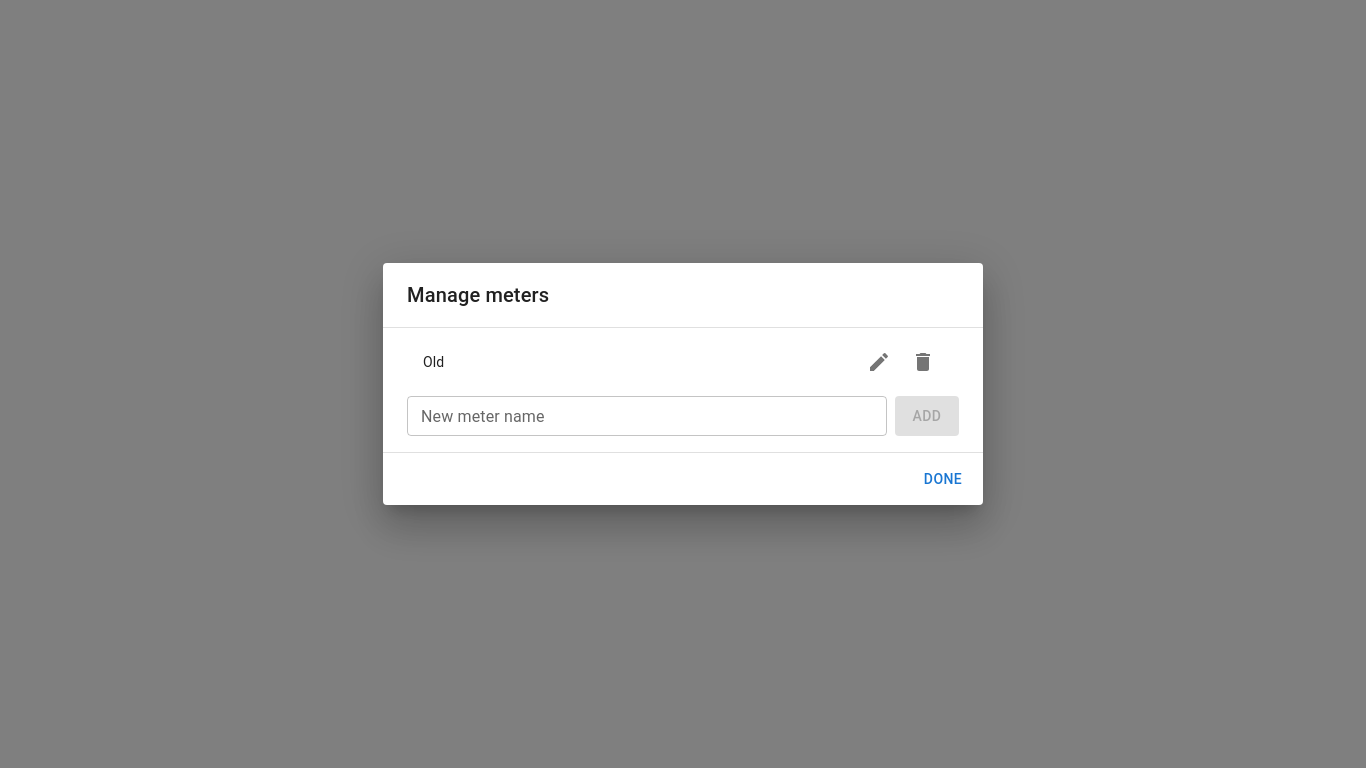
renaming a meter via edit + save updates the store
Click the button named "rename" at (879, 362), box [859,342,899,382]
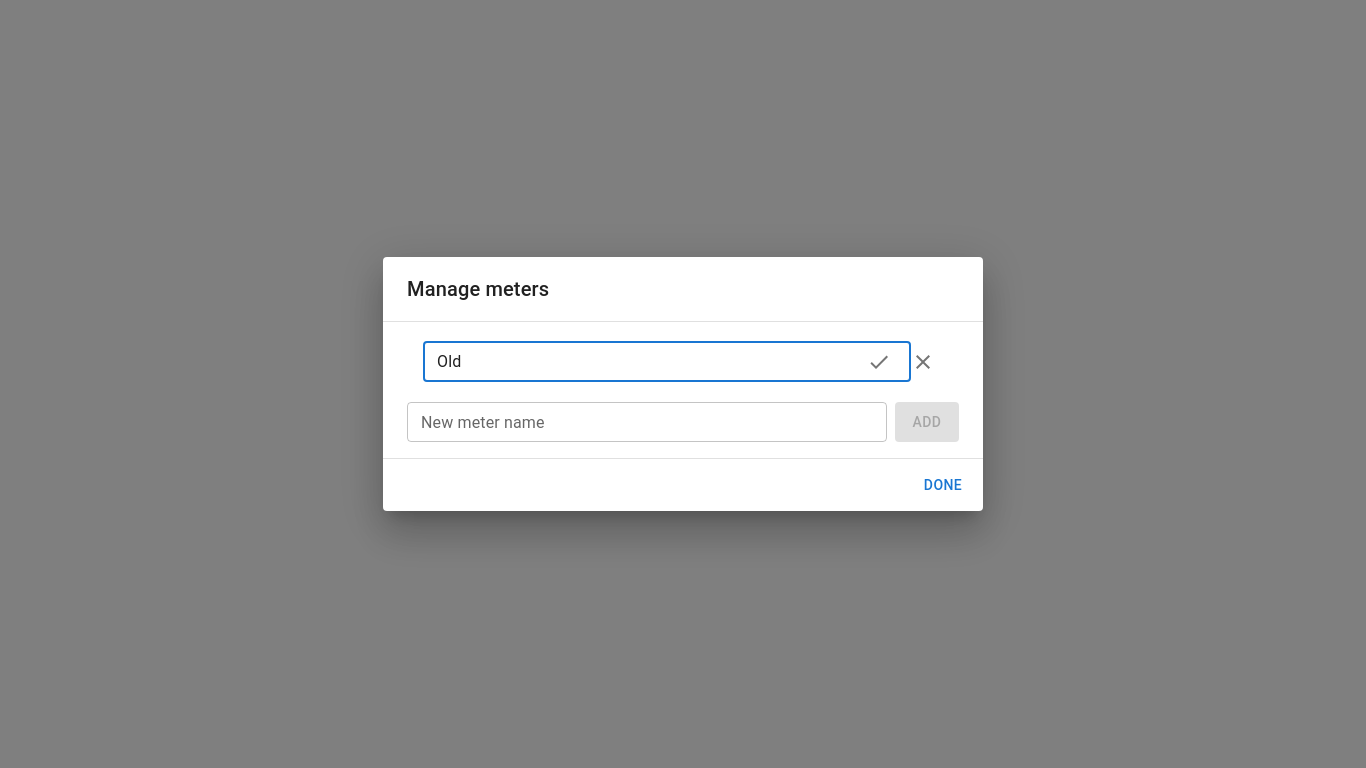
Replace the text in the field showing "Old" with "New" at (667, 362), box [423,342,911,382]
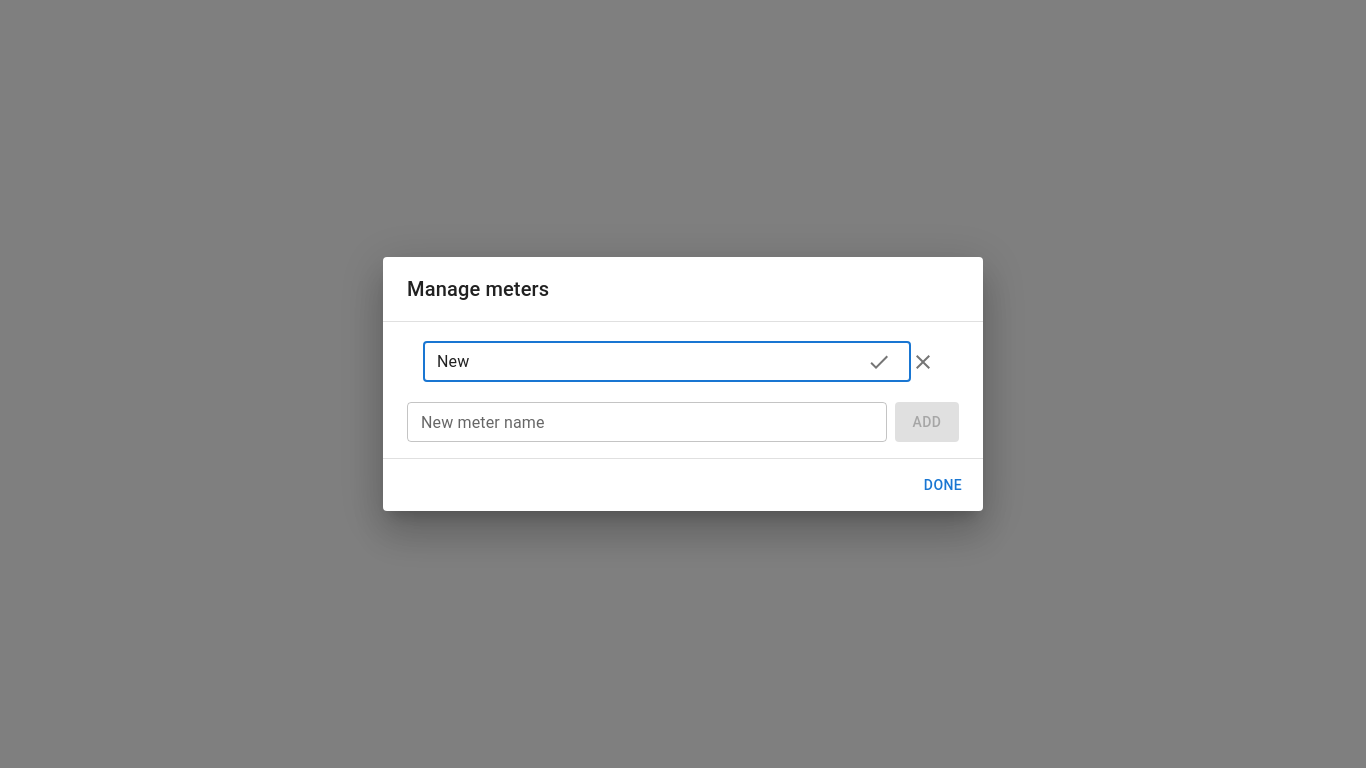
Click the button named "save name" at (879, 362), box [859,342,899,382]
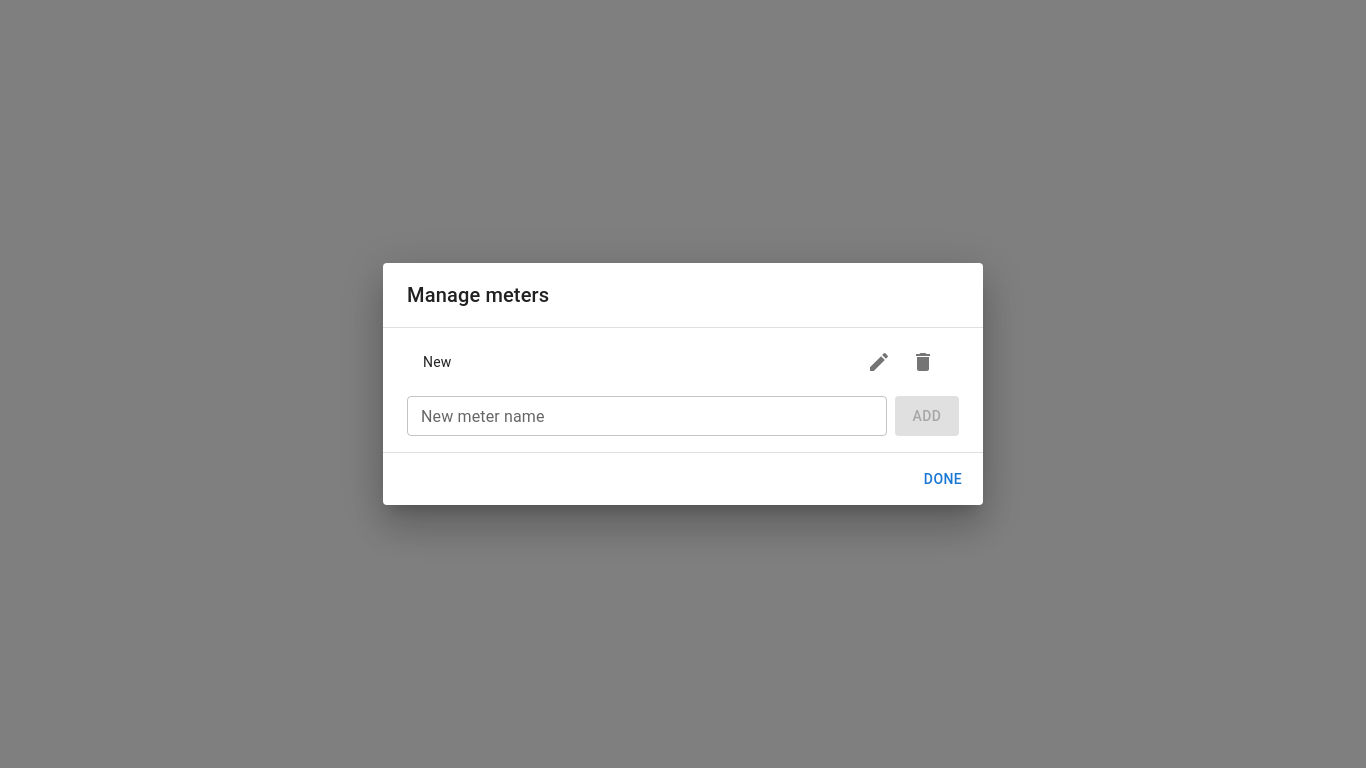
Now the text "New" is shown, box [423,354,451,370]
